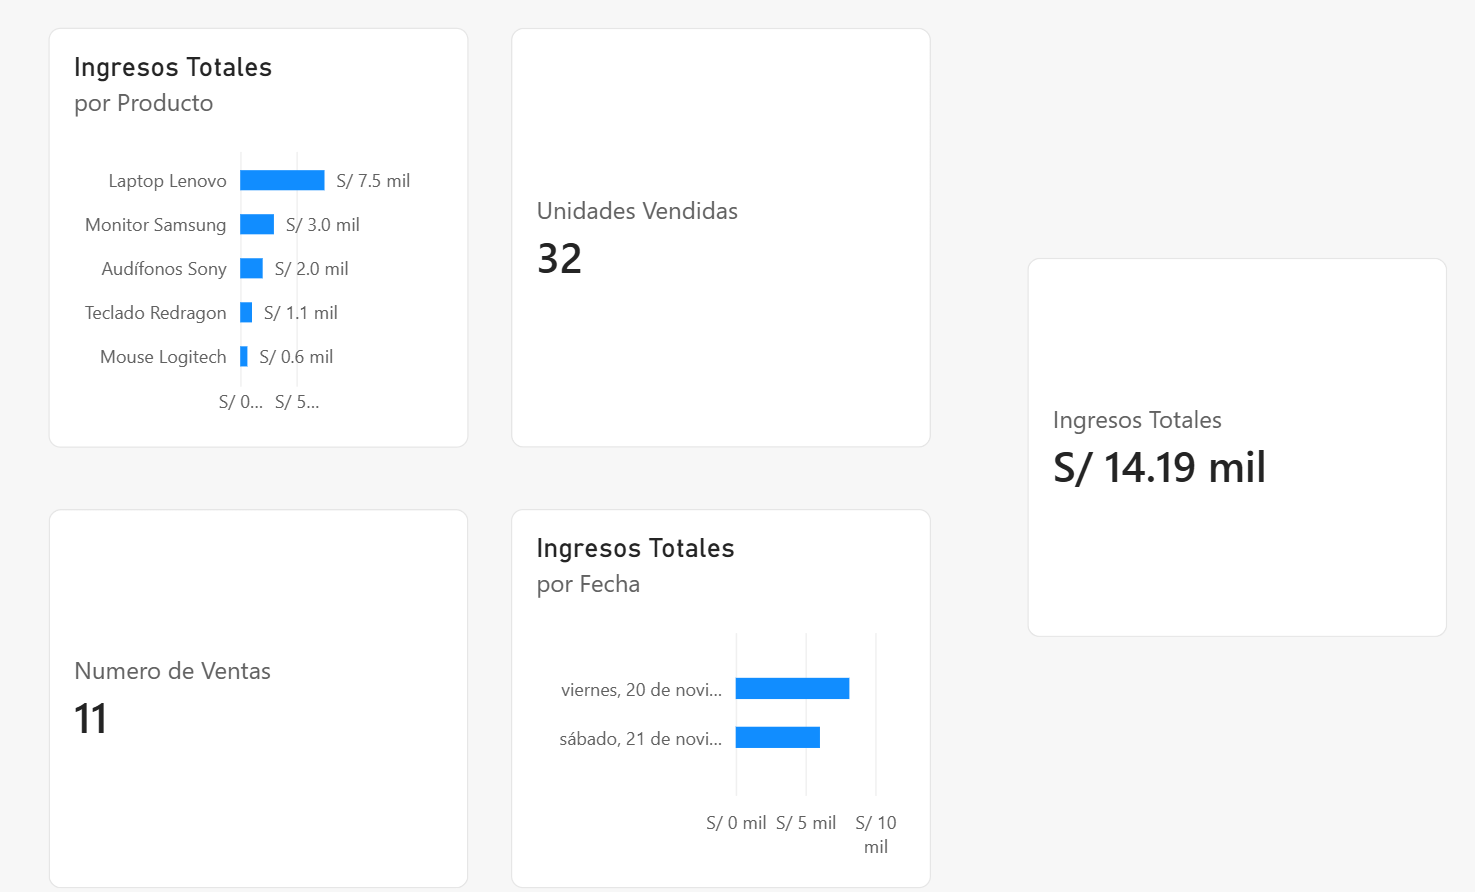

This screenshot's page, from the dashboard's own definition file:
{"tool":"powerbi","page":{"name":"Página 1","canvas":[1920,1080],"ordinal":0},"visuals":[{"type":"clusteredBarChart","fields":{"Category":["z.Producto"],"Y":["z.Ingresos Totales"]},"box":[38.6,19.3,280,280],"z":0},{"type":"cardVisual","fields":{"Data":["z.Unidades Vendidas"]},"box":[346.7,19.2,280,280],"z":1000},{"type":"cardVisual","fields":{"Data":["z.Numero de Ventas"]},"box":[38.3,340,280,253],"z":2000},{"type":"clusteredBarChart","fields":{"Category":["z.Fecha"],"Y":["z.Ingresos Totales"]},"box":[346.7,340,280,253],"z":3000},{"type":"cardVisual","fields":{"Data":["z.Ingresos Totales"]},"box":[690.8,172.5,280,253],"z":3001}]}

Visuals, with their boxes on the page's 1920x1080 design canvas (x1, y1, x2, y2). These are canvas units, not pixel positions in the 1475x892 screenshot, which may show the page scaled, cropped or inside an application window:
clusteredBarChart - z.Producto x z.Ingresos Totales: 39, 19, 319, 299
cardVisual - z.Unidades Vendidas: 347, 19, 627, 299
cardVisual - z.Numero de Ventas: 38, 340, 318, 593
clusteredBarChart - z.Fecha x z.Ingresos Totales: 347, 340, 627, 593
cardVisual - z.Ingresos Totales: 691, 172, 971, 426
